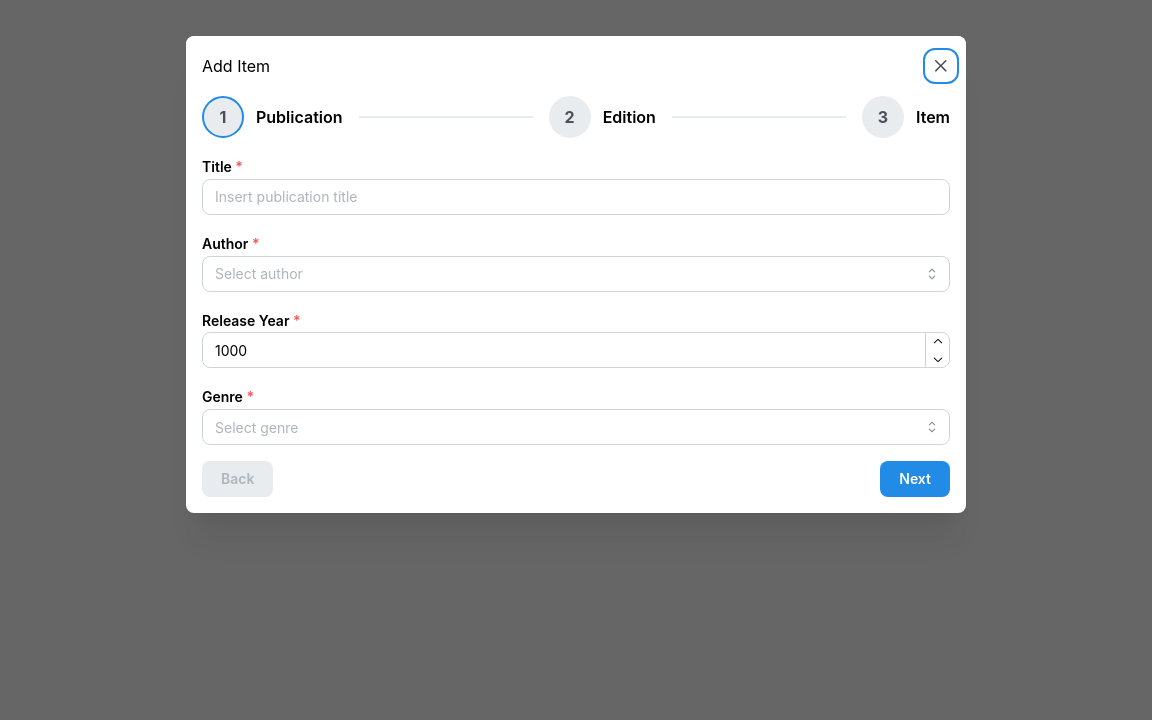
Test: AddItemModal › does not advance past the publication step when required fields are missing
The width and height of the screenshot is (1152, 720).
Step 1. Click the button "Next" → (915, 479), box [880,461,950,497]
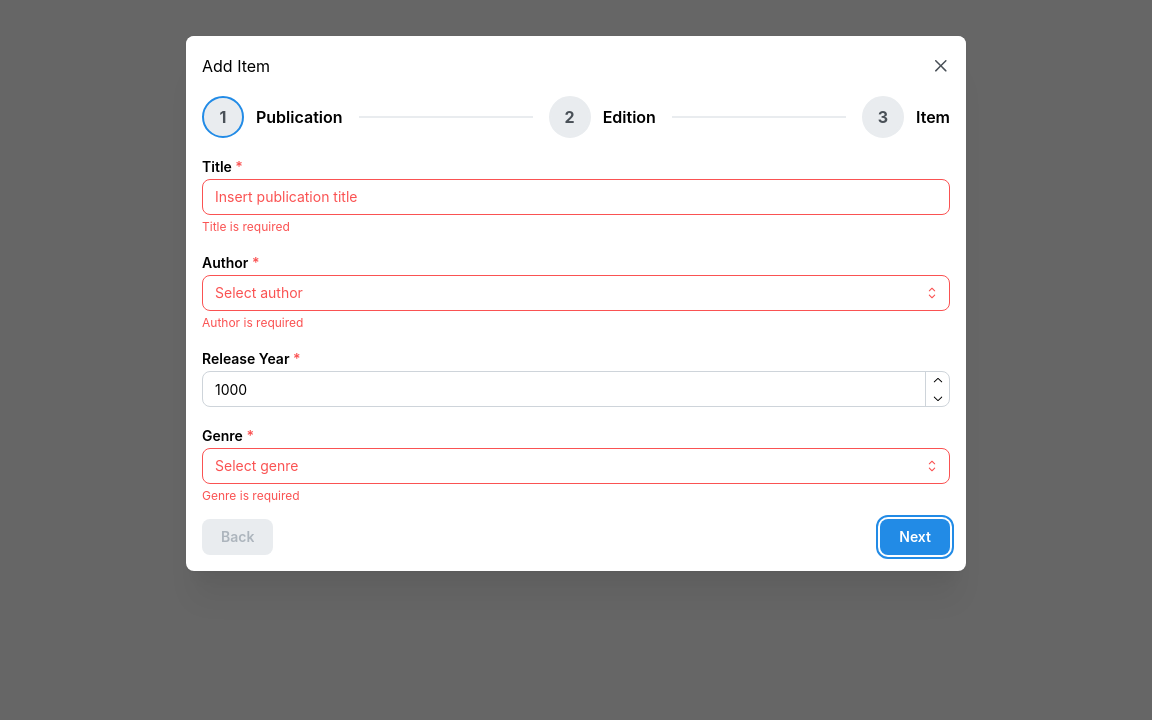
Expected: the text "Title is required" is shown, [202,219,290,234]
Expected: the text "Author is required" is shown, [202,315,303,330]
Expected: the text "Genre is required" is shown, [202,488,300,503]
